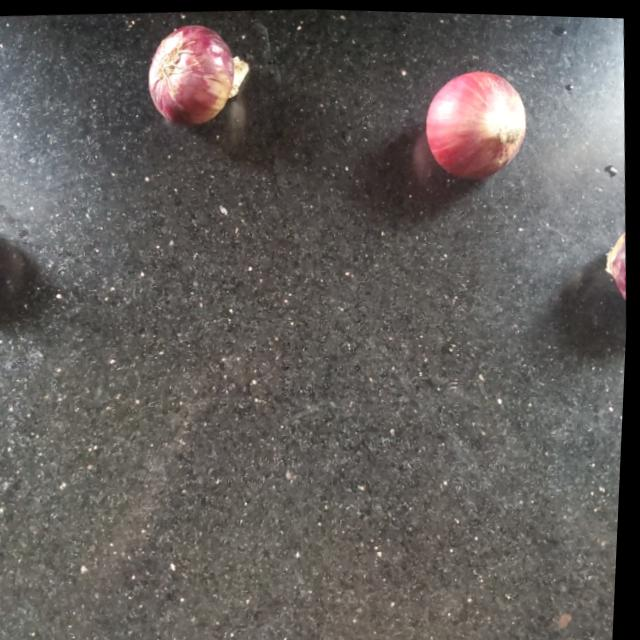onion: (423, 64, 534, 179), (145, 22, 251, 125)
